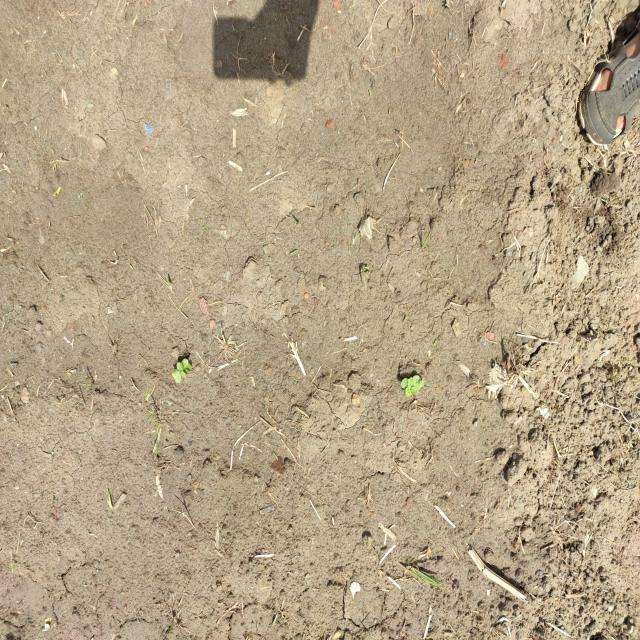seedling_s1: (401, 377, 416, 389), (177, 363, 186, 378), (404, 386, 416, 397), (413, 375, 424, 387), (172, 369, 181, 383), (183, 364, 192, 374), (180, 359, 188, 370), (414, 384, 421, 392)
